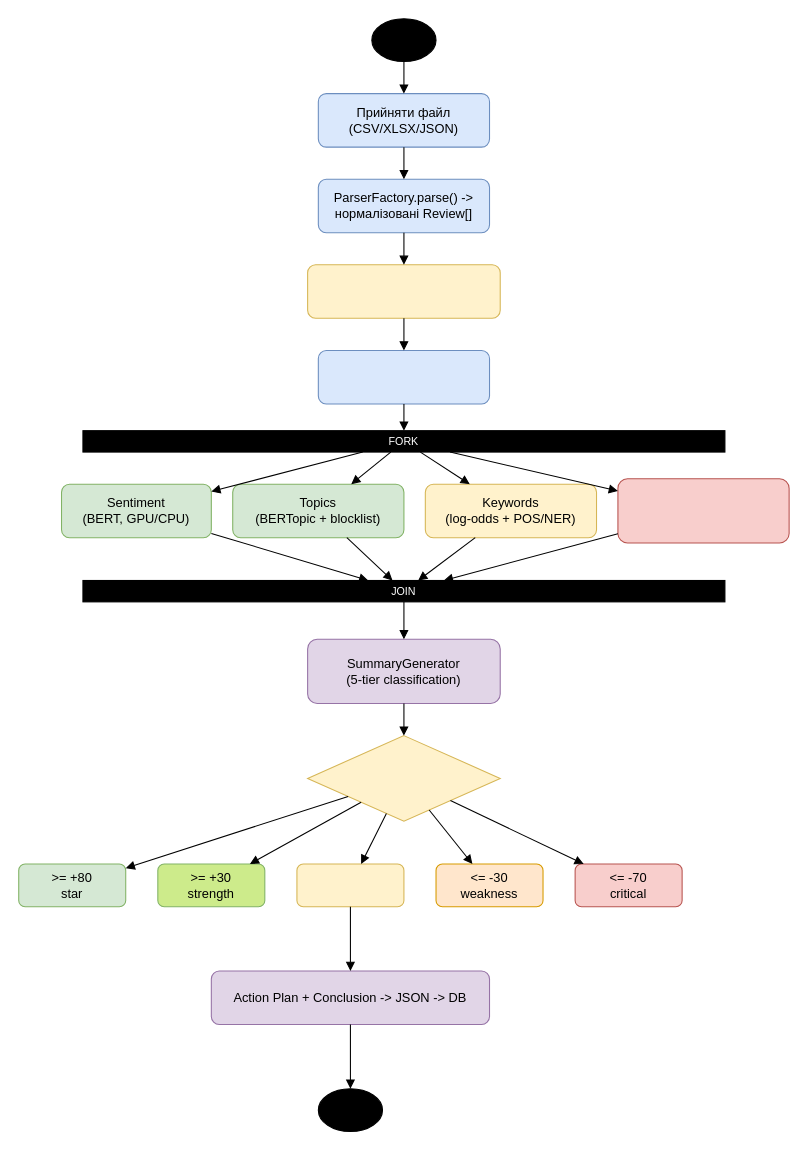
The diagram is 808 pixels wide and 1150 high, and some of its shapes have lost their labels. Here are the shapes that lost their labels. From the top down, the centre of each, then its label:
At [403,40]: "START".
At [403,291]: "_filename_blocklist(file_name) -> бренд/продукт-токени".
At [403,376]: "LanguageDetector.annotate()".
At [703,510]: "ABSA (spaCy noun chunks + dep-parsing opinions)".
At [403,778]: "Полярність аспекту?".
At [350,885]: "+/- 30 split".
At [350,1110]: "END".
